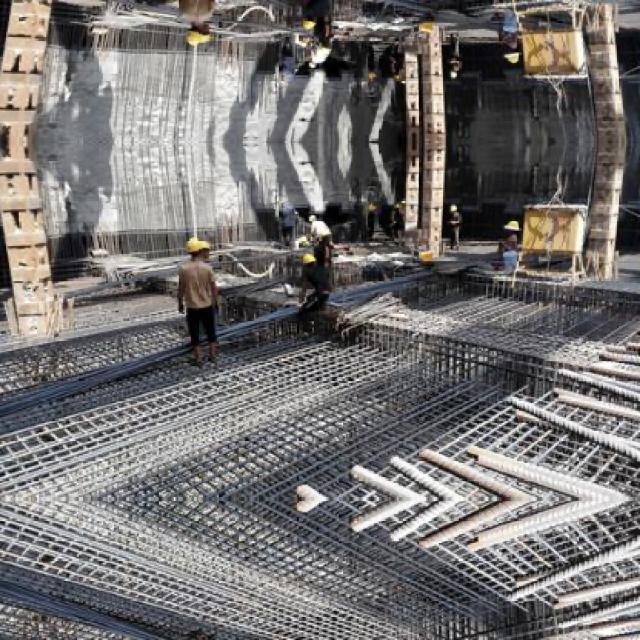con casco: (182, 230, 224, 272), (313, 243, 349, 278)
